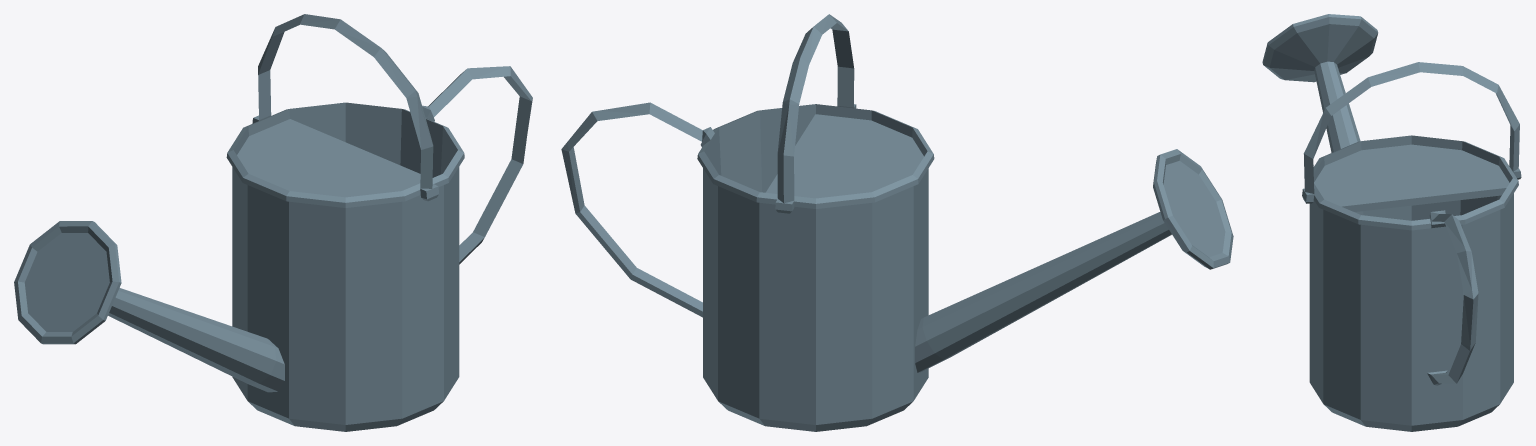
The model's file is water-can.glb.
3 renders of one model, left to right at view 1: azimuth 30°, elevation 25°; view 2: azimuth 150°, elevation 25°; view 3: azimuth 270°, elevation 25°, orthographic. The views are drawn at different scales.
Visible parts, largest first — view 1: group2019711482, group1331374005, group2012482809, group1096370107, group221591931, group837911006; view 2: group2019711482, group1331374005, group2012482809, group1096370107, group837911006, group221591931; view 3: group2019711482, group2012482809, group1331374005, group1096370107, group221591931, group837911006.
Boxes of the visible parts, left/top/right/bottom form: group2019711482: left=226, top=102, right=464, bottom=431; group1331374005: left=14, top=221, right=284, bottom=392; group2012482809: left=237, top=119, right=420, bottom=197; group1096370107: left=422, top=66, right=532, bottom=264; group221591931: left=334, top=19, right=438, bottom=201; group837911006: left=252, top=14, right=340, bottom=123; group2019711482: left=697, top=104, right=934, bottom=431; group1331374005: left=915, top=149, right=1233, bottom=372; group2012482809: left=765, top=114, right=923, bottom=198; group1096370107: left=561, top=102, right=714, bottom=317; group837911006: left=775, top=26, right=821, bottom=213; group221591931: left=814, top=14, right=856, bottom=108; group2019711482: left=1309, top=135, right=1518, bottom=431; group2012482809: left=1314, top=144, right=1509, bottom=211; group1331374005: left=1262, top=14, right=1378, bottom=152; group1096370107: left=1427, top=210, right=1478, bottom=385; group221591931: left=1302, top=62, right=1419, bottom=203; group837911006: left=1418, top=62, right=1521, bottom=179.
Size of the model in its own units: 0.6764 by 0.4058 by 0.2883.
